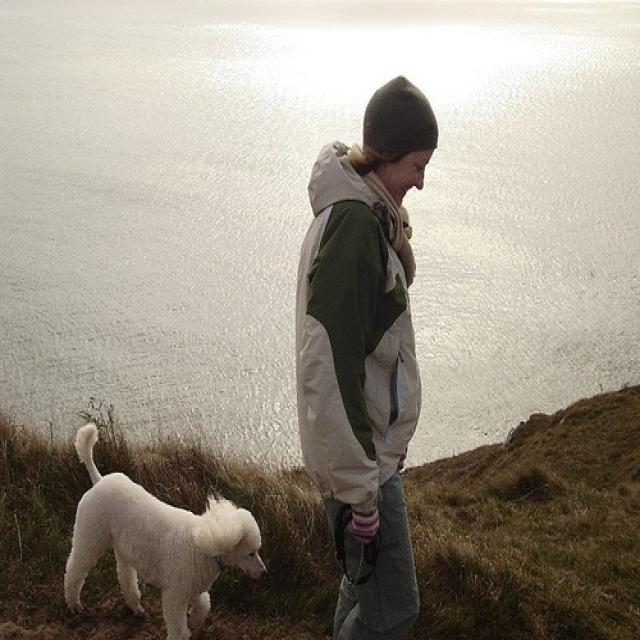dog: (64, 422, 268, 638)
